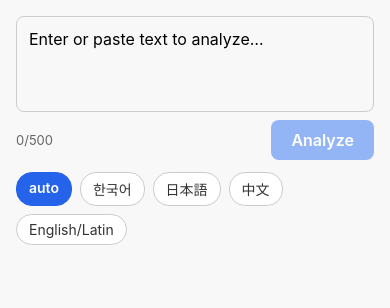
HomeScreen error placement (FR-013) › LANGUAGE_UNDETECTABLE suggests the picker
The image size is (390, 308).
expect the button "Analyze" is shown: met, box x1=271 y1=120 x2=374 y2=160
In the text box labelled "text to analyze": (195, 64) x1=16 y1=16 x2=374 y2=112, type "zzzz"
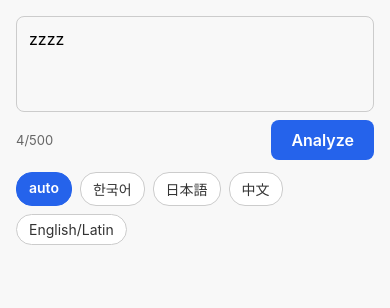
Click the button "Analyze": click(323, 140) x1=271 y1=120 x2=374 y2=160
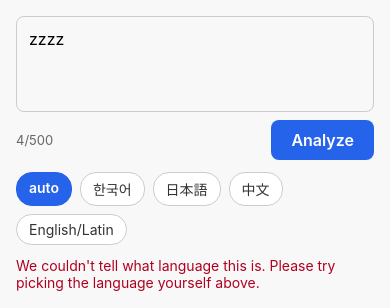
expect the text "picking the language" is shown: met, box x1=16 y1=257 x2=339 y2=291
